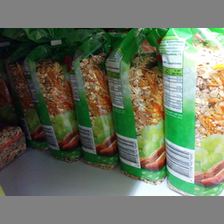cereal: (158, 28, 224, 196), (105, 28, 166, 185), (68, 42, 118, 171), (22, 46, 74, 160)
